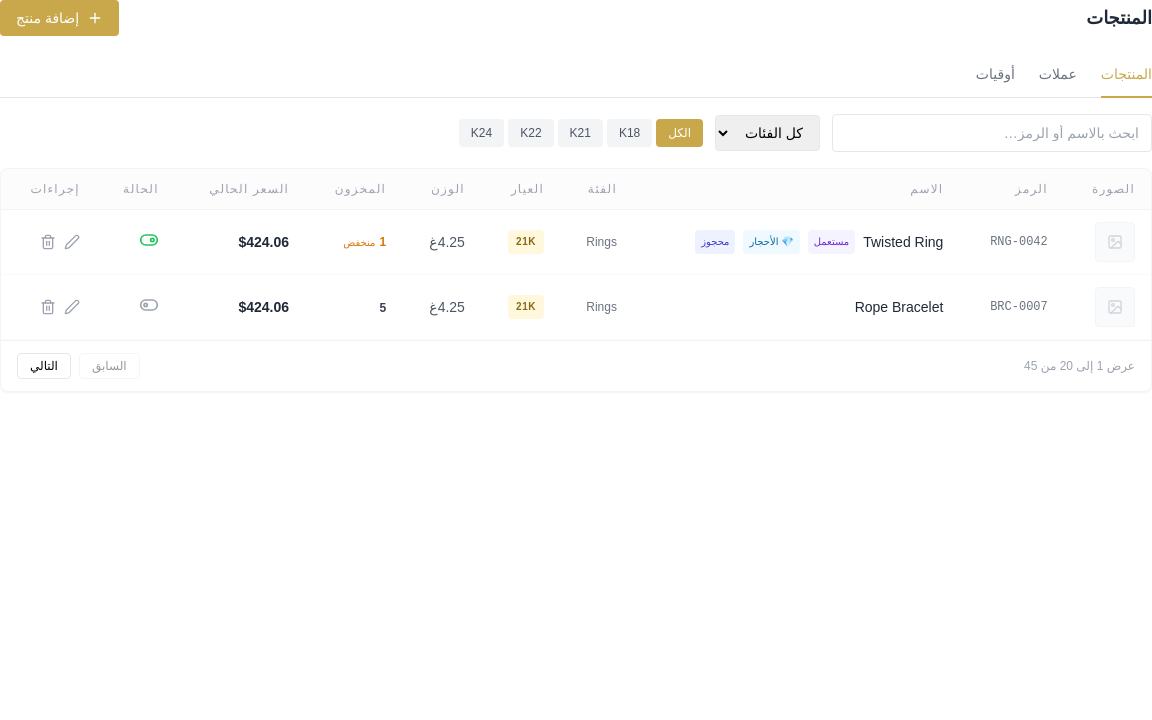
Scenario: products list in Arabic (NEX-64) › opens the delete confirmation in Arabic
The image size is (1152, 720).
Click the button named "حذف نهائي" in the row of "RNG-0042": [48, 242] box [40,234,56,250]
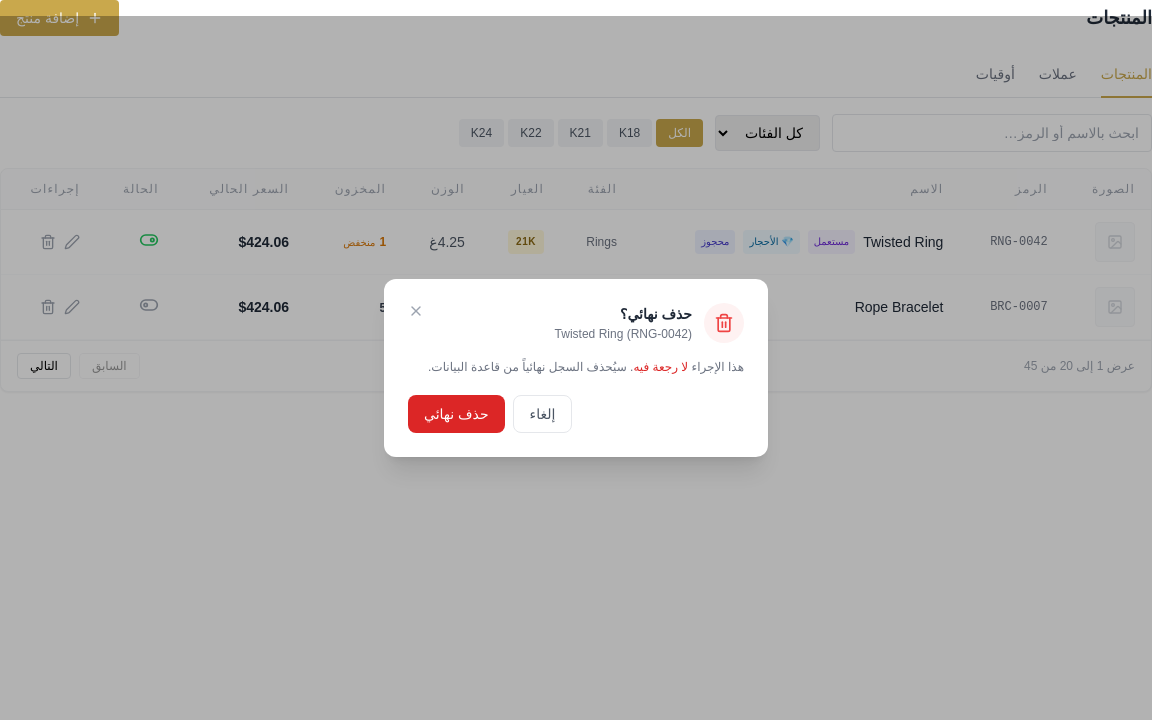
Expected: the text "حذف نهائي؟" is shown, [620,306,692,322]
Expected: the text "Twisted Ring (RNG-0042)" is shown, [555,326,692,342]
